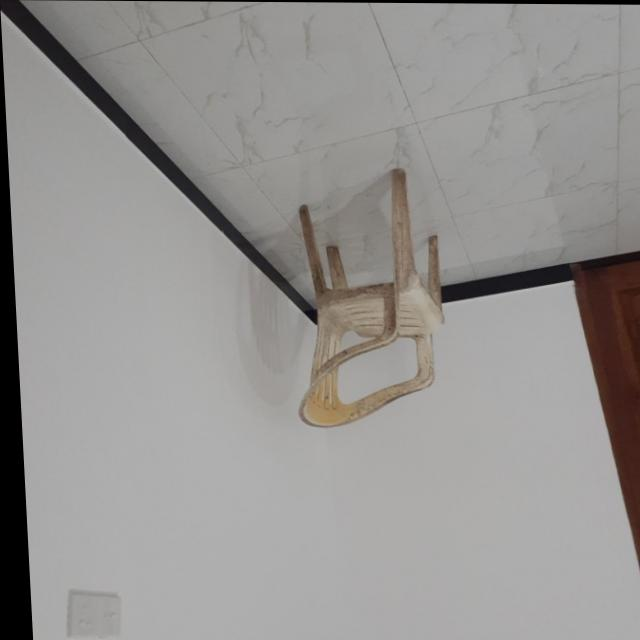Chair: (283, 167, 448, 430)
